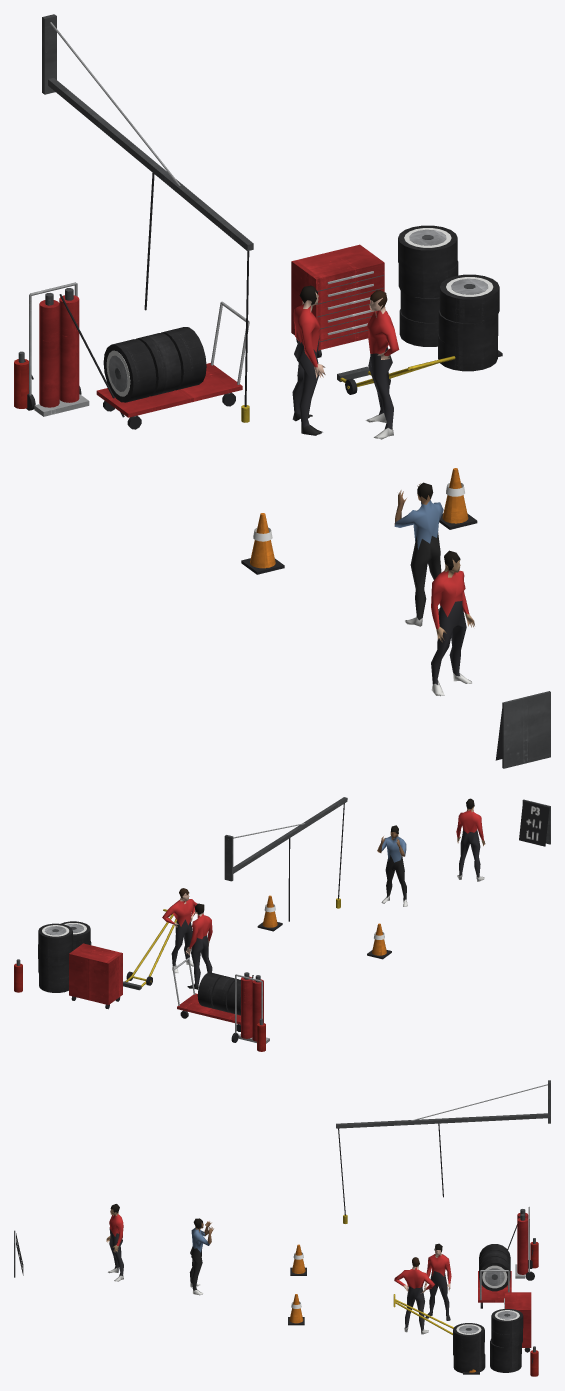
File: pit_kit_1.glb
The picture shows the model from 3 angles, top to bottom: view 1: azimuth 30°, elevation 25°; view 2: azimuth 150°, elevation 25°; view 3: azimuth 270°, elevation 25°; orthographic projection. The views are drawn at different scales.
Visible parts, largest first — view 1: pit_kit_1, pit_kit_1 crew; view 2: pit_kit_1, pit_kit_1 crew; view 3: pit_kit_1, pit_kit_1 crew.
Boxes of the visible parts, x1=… form: pit_kit_1: x1=14, y1=14, x2=550, y2=768; pit_kit_1 crew: x1=292, y1=285, x2=474, y2=696; pit_kit_1: x1=14, y1=797, x2=550, y2=1051; pit_kit_1 crew: x1=162, y1=798, x2=485, y2=989; pit_kit_1: x1=14, y1=1080, x2=550, y2=1376; pit_kit_1 crew: x1=106, y1=1204, x2=451, y2=1334.
Bounding box in the file's own units: 5.74 × 4.66 × 11.5.
13 materials, 9 textured.
